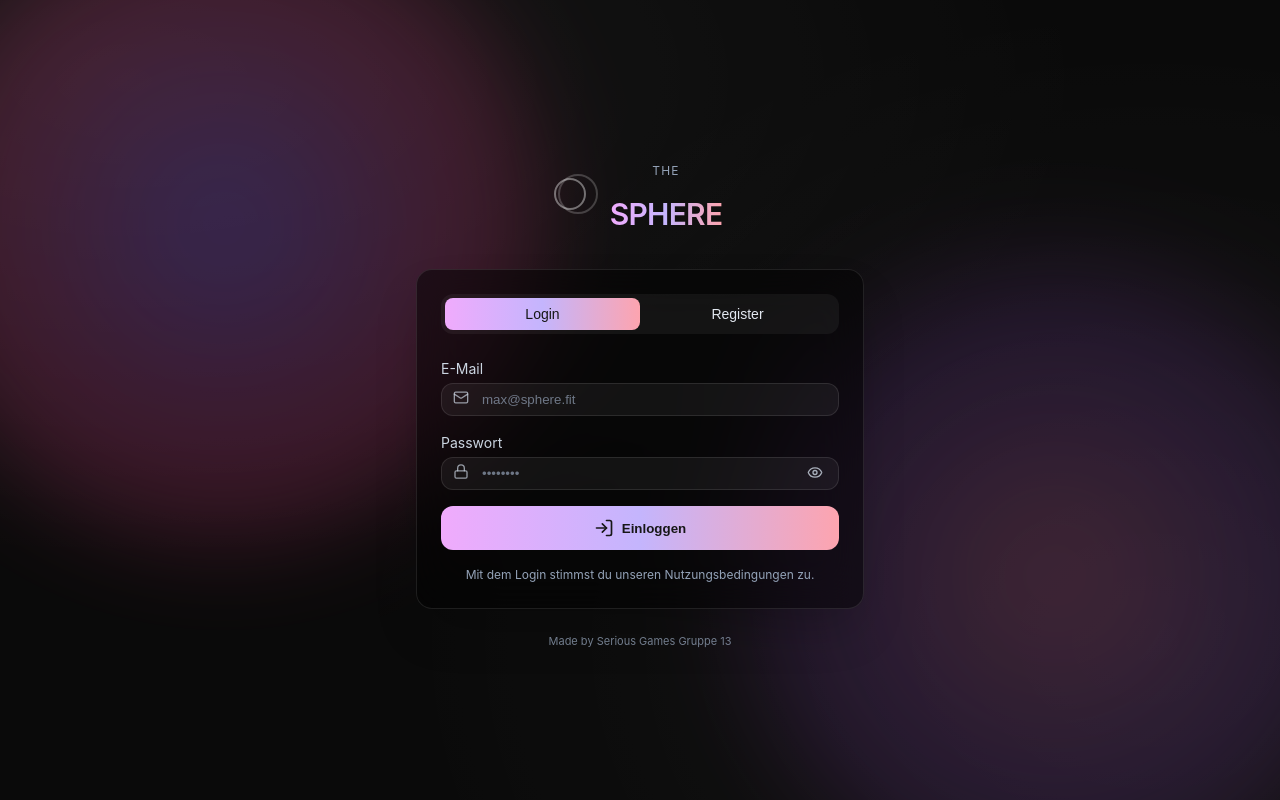
Test: LoginPage › Mode Switching › should switch back to login mode
The image size is (1280, 800).
Note: Switch to register first
Click the button "Register": (738,314) x1=640 y1=298 x2=835 y2=330
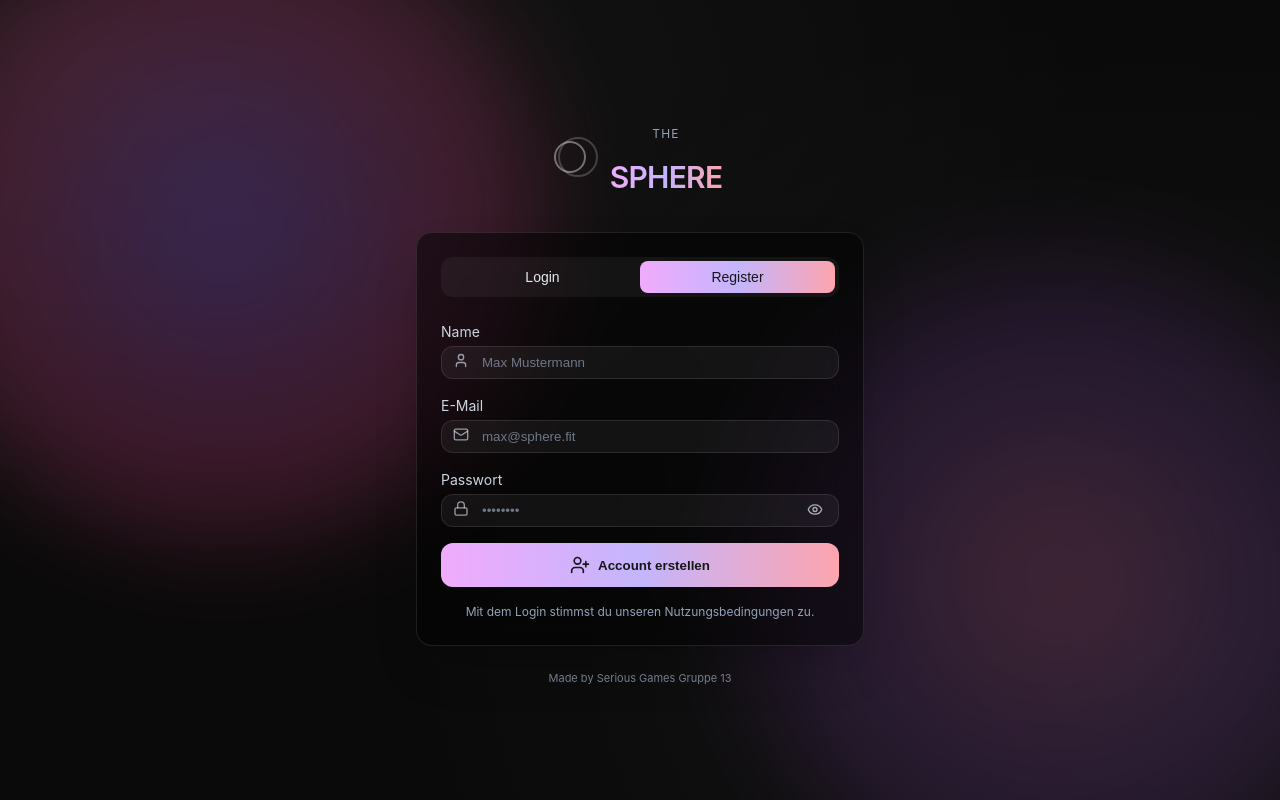
Check: the field with placeholder "Max Mustermann" is shown, box x1=441 y1=346 x2=839 y2=379
Note: Switch back to login
Click the button "Login": (542,277) x1=445 y1=261 x2=640 y2=293
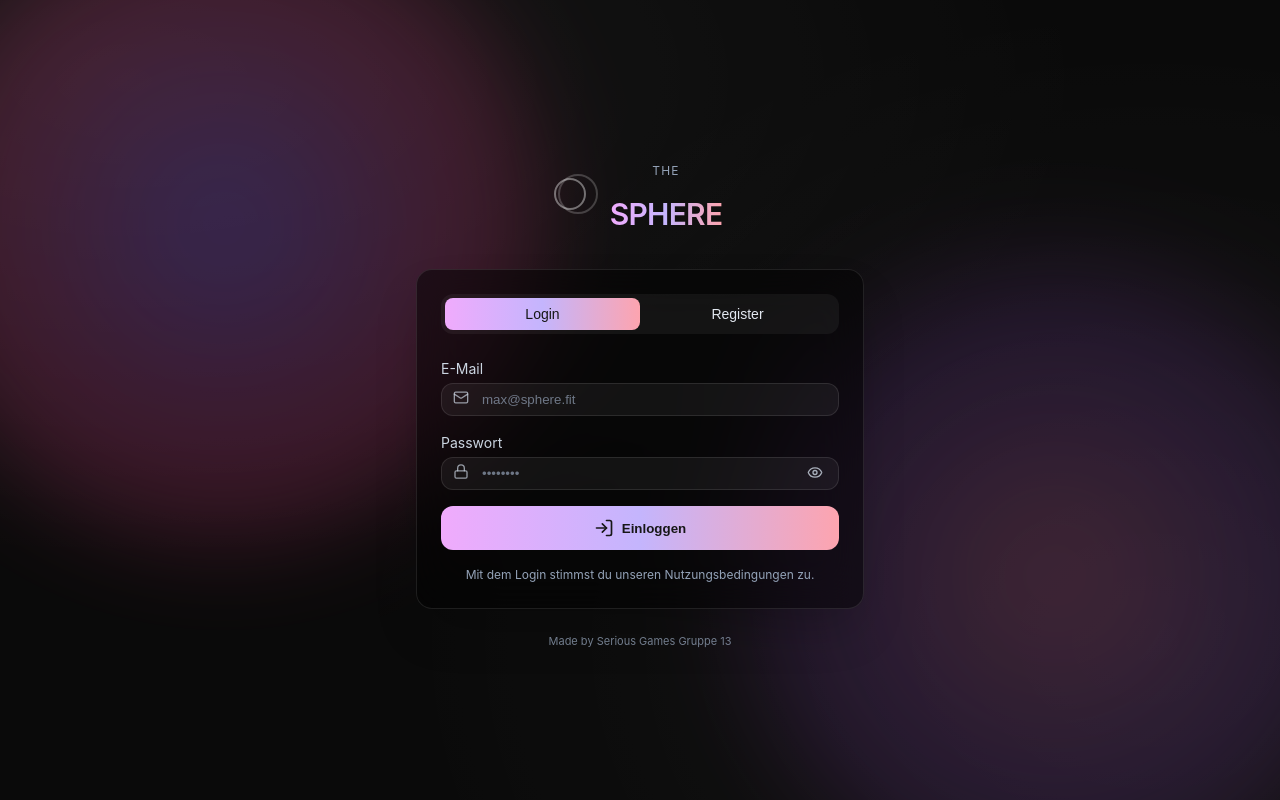
Check: the field with placeholder "Max Mustermann" is not shown
Check: the button "Einloggen" is shown, box x1=441 y1=506 x2=839 y2=550
